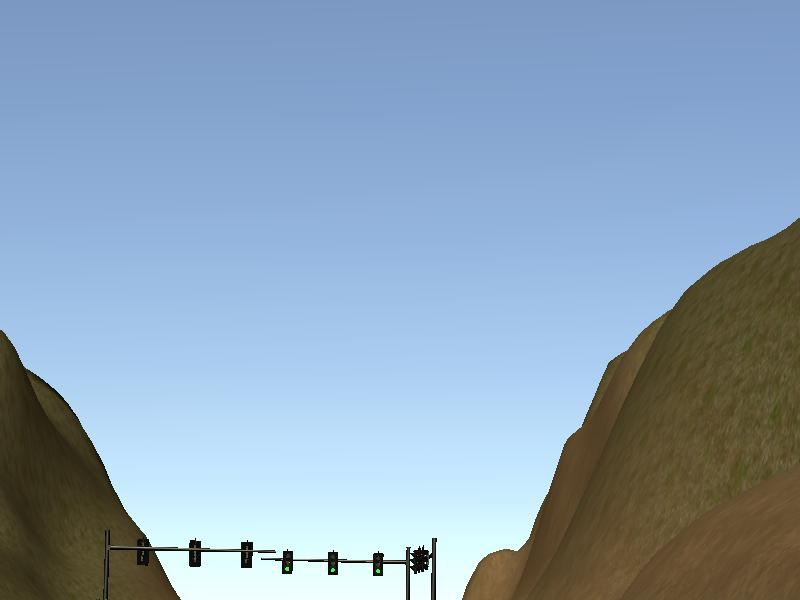green_light: (372, 553, 384, 575), (281, 552, 293, 573), (327, 553, 338, 575)
